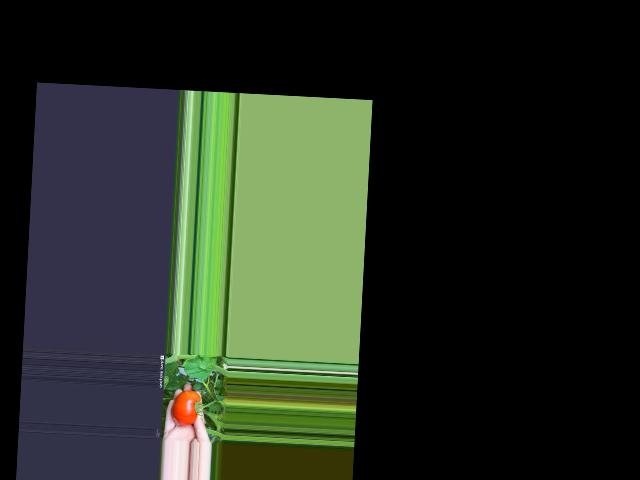tomato: (171, 389, 200, 426)
